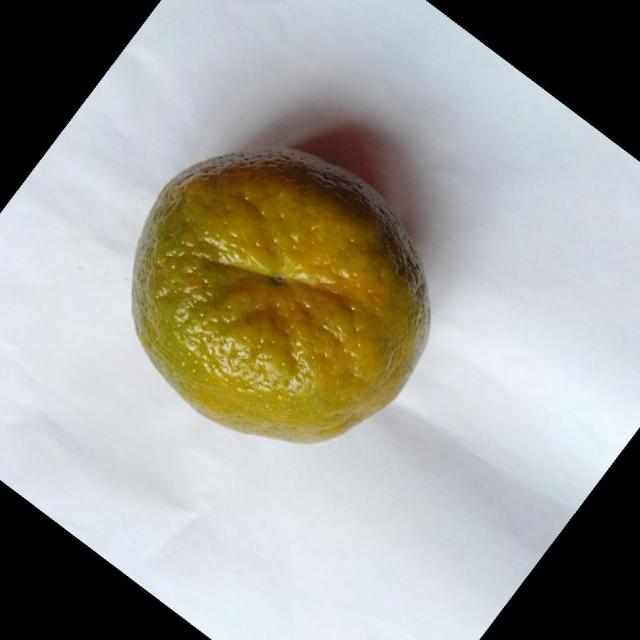fresh orange: (129, 144, 432, 445)
